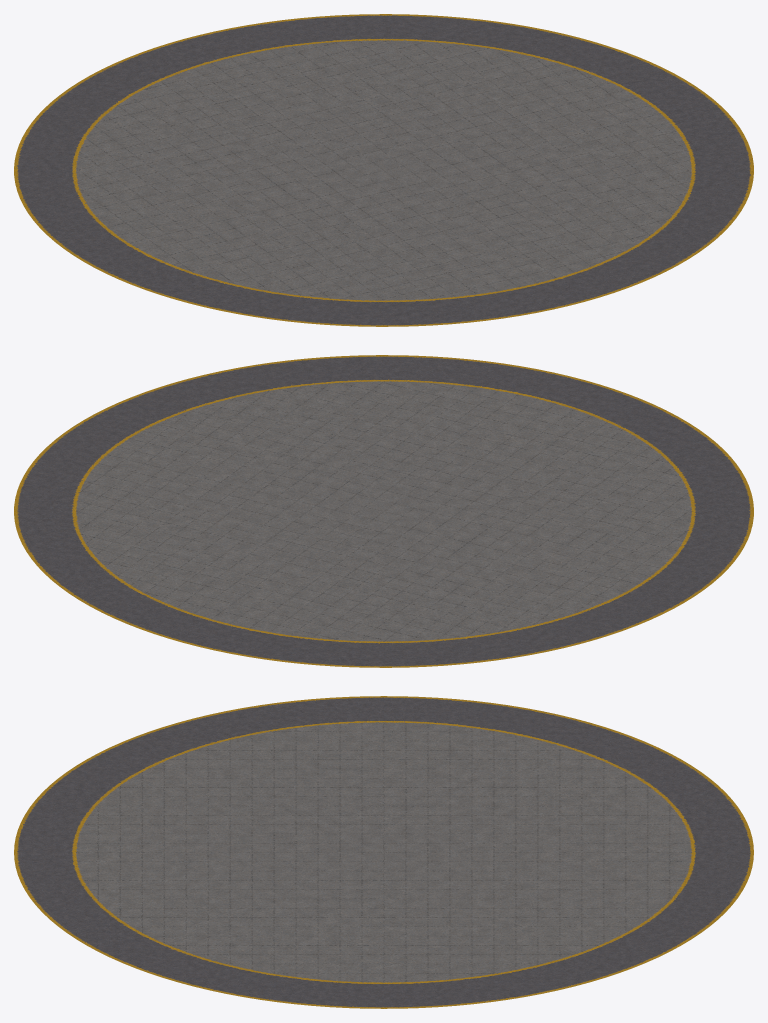
3 renders of one model, top to bottom at view 1: azimuth 30°, elevation 25°; view 2: azimuth 150°, elevation 25°; view 3: azimuth 270°, elevation 25°, orthographic.
Visible parts, largest first — view 1: Paving_-1_-1_0, Paving_0_0_0, Paving_-1_0_0, Paving_0_-1_0; view 2: Paving_-1_0_0, Paving_0_-1_0, Paving_-1_-1_0, Paving_0_0_0; view 3: Paving_-1_-1_0, Paving_-1_0_0, Paving_0_-1_0, Paving_0_0_0.
Part boxes in pixels (bbox=[...]): Paving_-1_-1_0: bbox=[64, 170, 568, 326]; Paving_0_0_0: bbox=[199, 14, 703, 170]; Paving_-1_0_0: bbox=[14, 35, 383, 248]; Paving_0_-1_0: bbox=[384, 92, 753, 305]; Paving_-1_0_0: bbox=[199, 511, 703, 667]; Paving_0_-1_0: bbox=[64, 355, 568, 511]; Paving_-1_-1_0: bbox=[384, 376, 753, 589]; Paving_0_0_0: bbox=[14, 433, 383, 646]; Paving_-1_-1_0: bbox=[14, 696, 383, 852]; Paving_-1_0_0: bbox=[384, 696, 753, 852]; Paving_0_-1_0: bbox=[14, 852, 383, 1008]; Paving_0_0_0: bbox=[384, 852, 753, 1008].
Size of the model in its own units: 202 by 0 by 202.
Materials: 4 (4 with a texture image).
